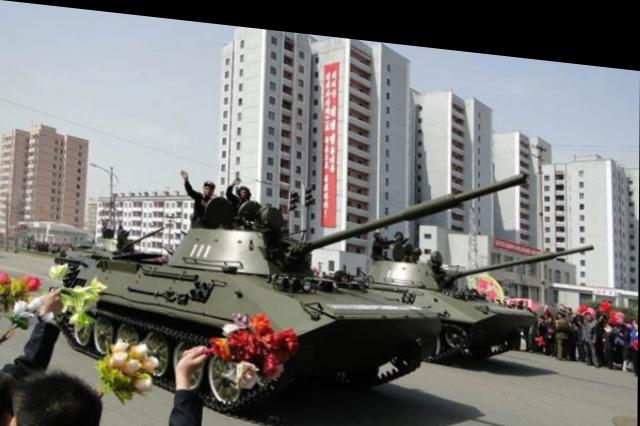other: (177, 150, 221, 219), (225, 160, 267, 215), (420, 231, 451, 263)
tank: (54, 164, 417, 407), (339, 218, 558, 356)
